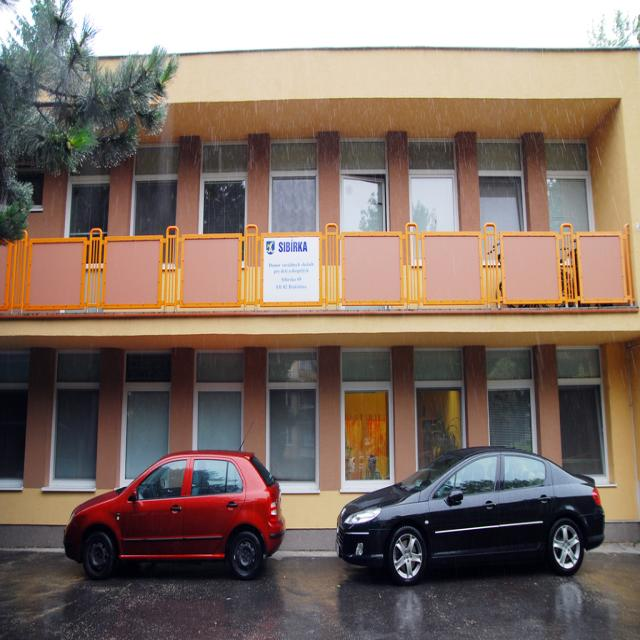Passenger Car: (336, 445, 606, 583), (65, 448, 288, 580)
